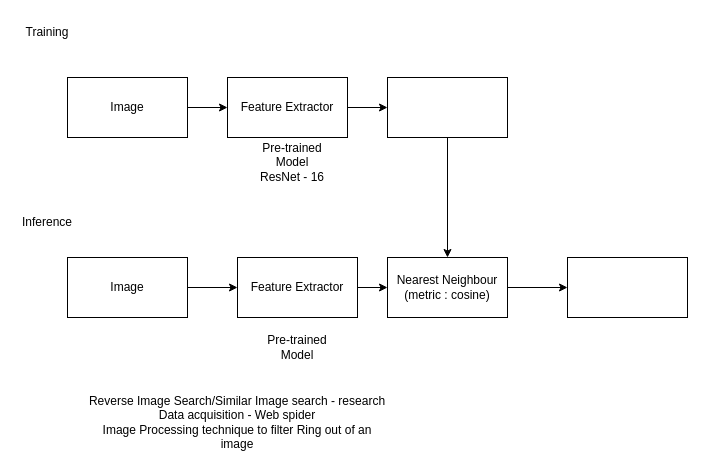
Image size: 705x468. Some labels were removed from this diagram. The box of each missing label's shape, as (x1, y1, x2, y2) in pixels:
Feature vector Store: (386, 76, 508, 138)
Relevant images: (566, 256, 688, 318)
